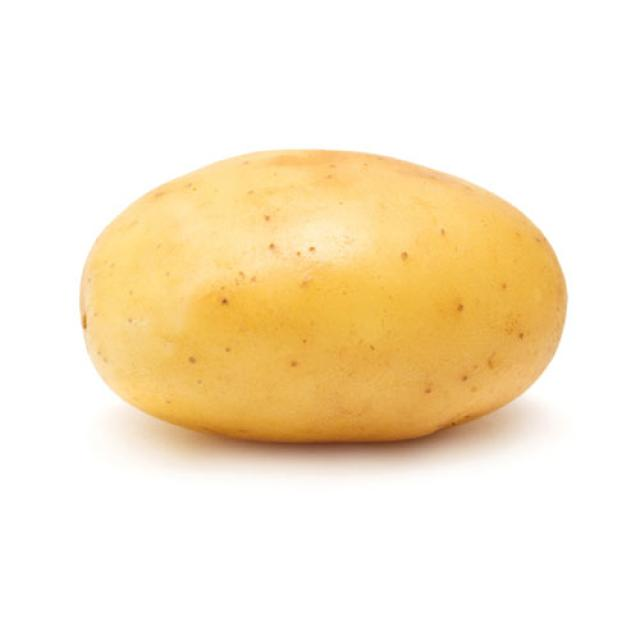potato: (78, 147, 568, 447)
